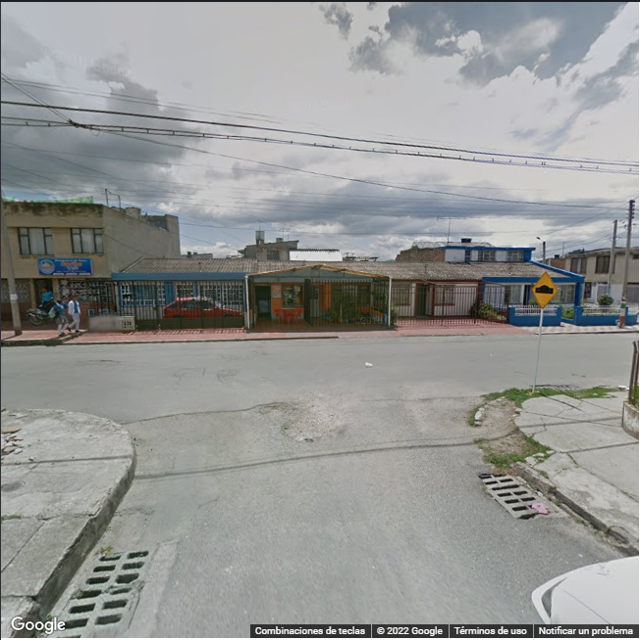D40: (276, 399, 343, 442)
